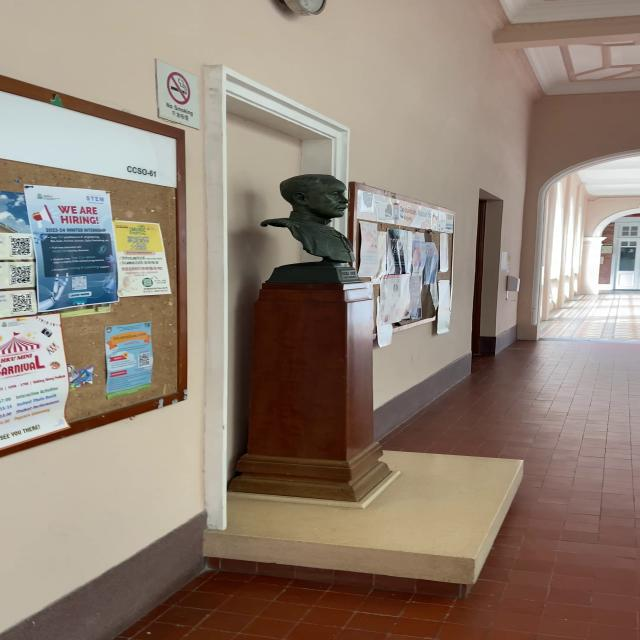statues: (260, 171, 380, 292)
